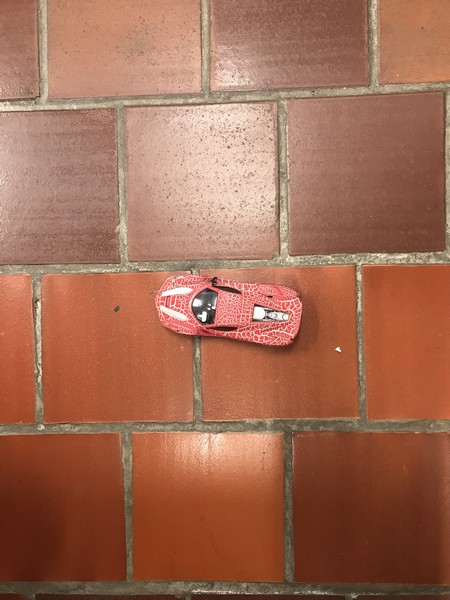RC: (150, 271, 304, 352)
